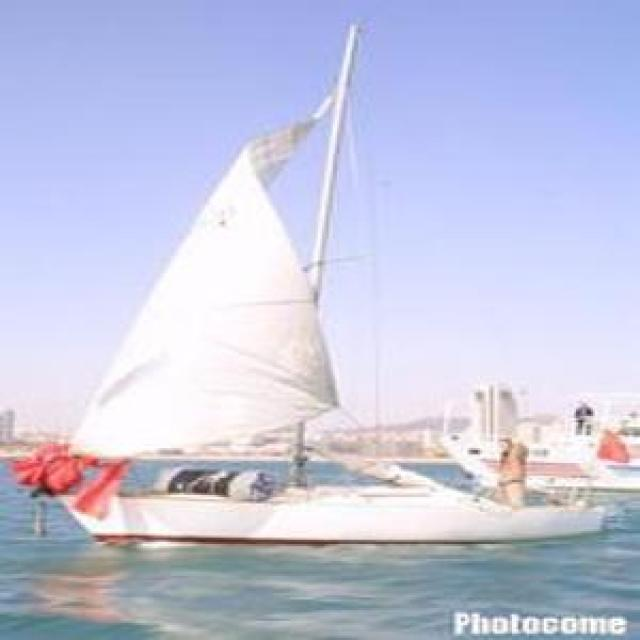passenger ship: (449, 394, 640, 492)
sailboat: (50, 21, 613, 544)
